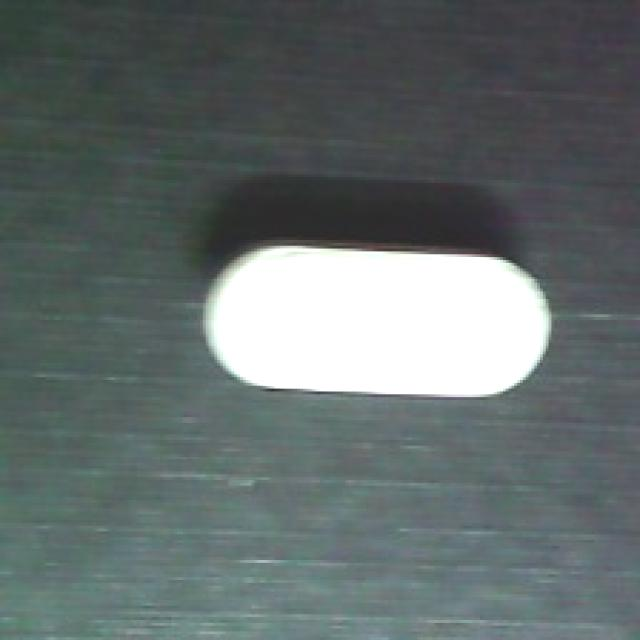no-defect: (200, 237, 554, 409)
